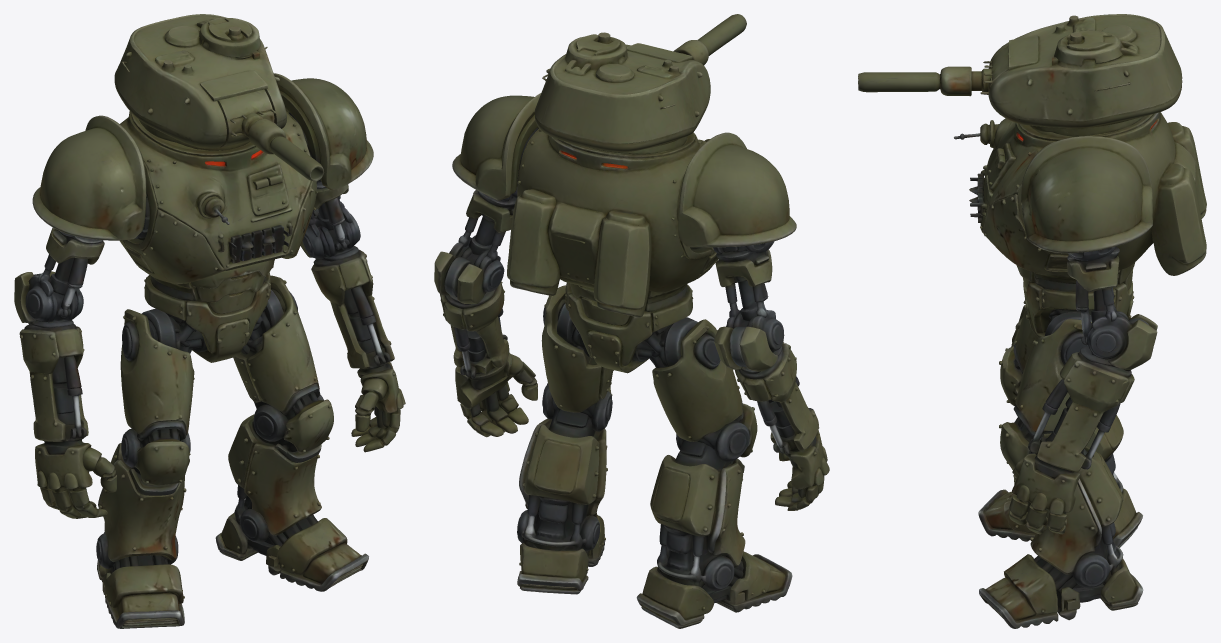
File: turret-bang14.web.glb
3 renders of one model, left to right at view 1: azimuth 30°, elevation 25°; view 2: azimuth 150°, elevation 25°; view 3: azimuth 270°, elevation 25°, orthographic.
Parts seen in each view (by area): view 1: root.11, root.7, root.4, root.3, root.0, root.6, root.12, root.1, root.2, root.5, root.13, root.8; view 2: root.11, root.3, root.7, root.4, root.12, root.6, root.0, root.1, root.2, root.13, root.8; view 3: root.11, root.7, root.4, root.12, root.13, root.6, root.5, root.3, root.2, root.8, root.10.
Boxes of the visible parts, left/top/right/bottom form: root.11: left=32, top=73, right=373, bottom=283; root.7: left=114, top=14, right=324, bottom=181; root.4: left=228, top=275, right=333, bottom=552; root.3: left=96, top=309, right=194, bottom=572; root.0: left=19, top=324, right=116, bottom=518; root.6: left=142, top=259, right=283, bottom=362; root.12: left=311, top=249, right=405, bottom=452; root.1: left=14, top=227, right=104, bottom=327; root.2: left=97, top=560, right=184, bottom=628; root.5: left=276, top=518, right=368, bottom=591; root.13: left=288, top=112, right=360, bottom=261; root.8: left=215, top=512, right=257, bottom=560; root.11: left=452, top=93, right=796, bottom=317; root.3: left=650, top=319, right=757, bottom=598; root.7: left=534, top=14, right=746, bottom=154; root.4: left=517, top=285, right=613, bottom=551; root.12: left=440, top=281, right=537, bottom=437; root.6: left=557, top=282, right=697, bottom=373; root.0: left=735, top=342, right=829, bottom=510; root.1: left=713, top=241, right=784, bottom=373; root.2: left=636, top=551, right=792, bottom=628; root.13: left=434, top=127, right=538, bottom=304; root.8: left=517, top=541, right=588, bottom=594; root.11: left=954, top=112, right=1206, bottom=275; root.7: left=858, top=14, right=1182, bottom=136; root.4: left=999, top=319, right=1123, bottom=593; root.12: left=1009, top=351, right=1134, bottom=534; root.13: left=1067, top=246, right=1157, bottom=371; root.6: left=1016, top=262, right=1135, bottom=337; root.5: left=979, top=554, right=1058, bottom=628; root.3: left=999, top=307, right=1123, bottom=492; root.2: left=978, top=488, right=1142, bottom=547; root.8: left=1100, top=558, right=1143, bottom=610; root.10: left=1056, top=587, right=1080, bottom=620.
Size of the model in its own units: 1.31 by 1.89 by 1.09.
Materials: 14 (14 with a texture image).
